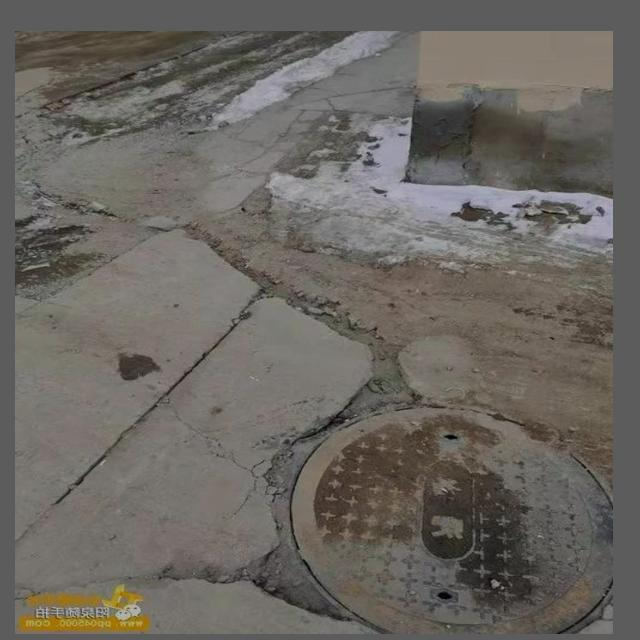circle: (187, 387, 606, 628)
